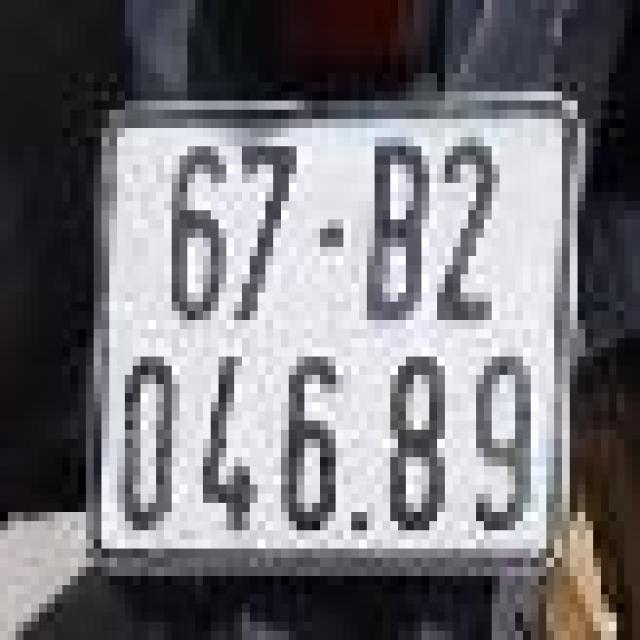0: (117, 352, 180, 544)
2: (433, 123, 511, 334)
4: (195, 338, 265, 540)
6: (156, 137, 234, 329), (277, 343, 347, 544)
7: (227, 128, 304, 329)
8: (374, 343, 452, 535)
9: (464, 338, 542, 540)
B: (355, 128, 433, 329)
